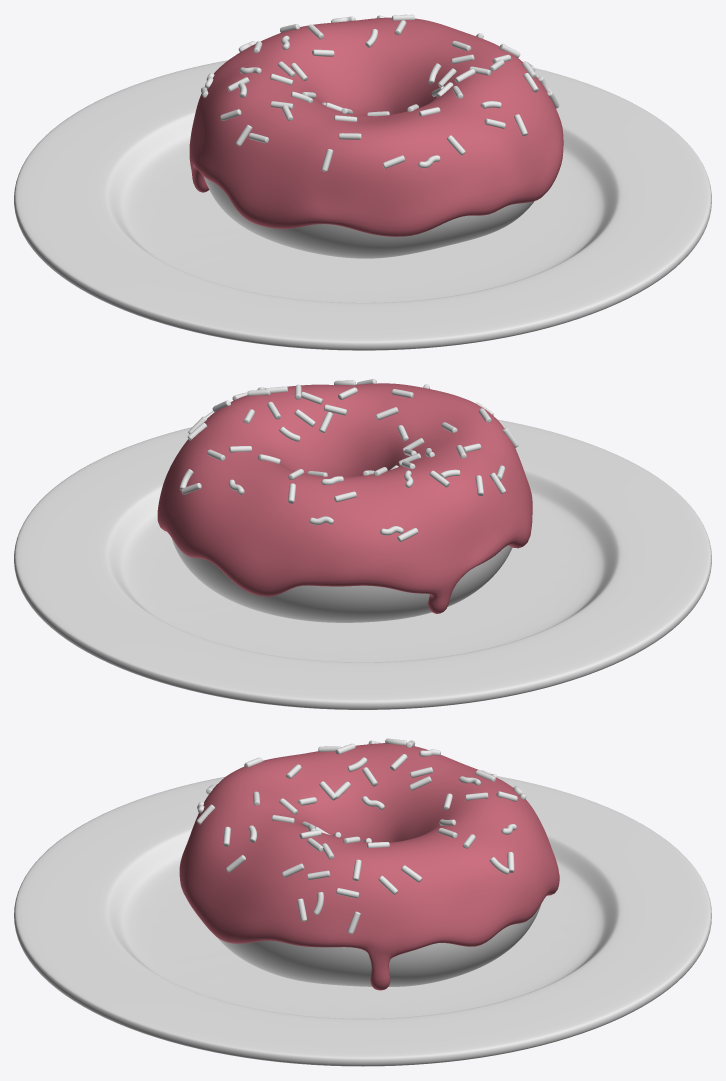
The model's file is donut.fbx.
The picture shows the model from 3 angles, top to bottom: view 1: azimuth 30°, elevation 25°; view 2: azimuth 150°, elevation 25°; view 3: azimuth 270°, elevation 25°; orthographic projection.
Visible parts, largest first — view 1: plate, icing, dough; view 2: plate, icing, dough; view 3: plate, icing, dough.
Part boxes in pixels (left/top/right/bottom): plate: left=14, top=60, right=711, bottom=350; icing: left=189, top=14, right=563, bottom=236; dough: left=204, top=176, right=534, bottom=258; plate: left=14, top=419, right=711, bottom=709; icing: left=157, top=379, right=532, bottom=613; dough: left=171, top=537, right=512, bottom=622; plate: left=14, top=776, right=711, bottom=1066; icing: left=179, top=738, right=559, bottom=990; dough: left=217, top=904, right=541, bottom=986.
Bounding box in the file's own units: 59.61 × 14.69 × 59.61.
